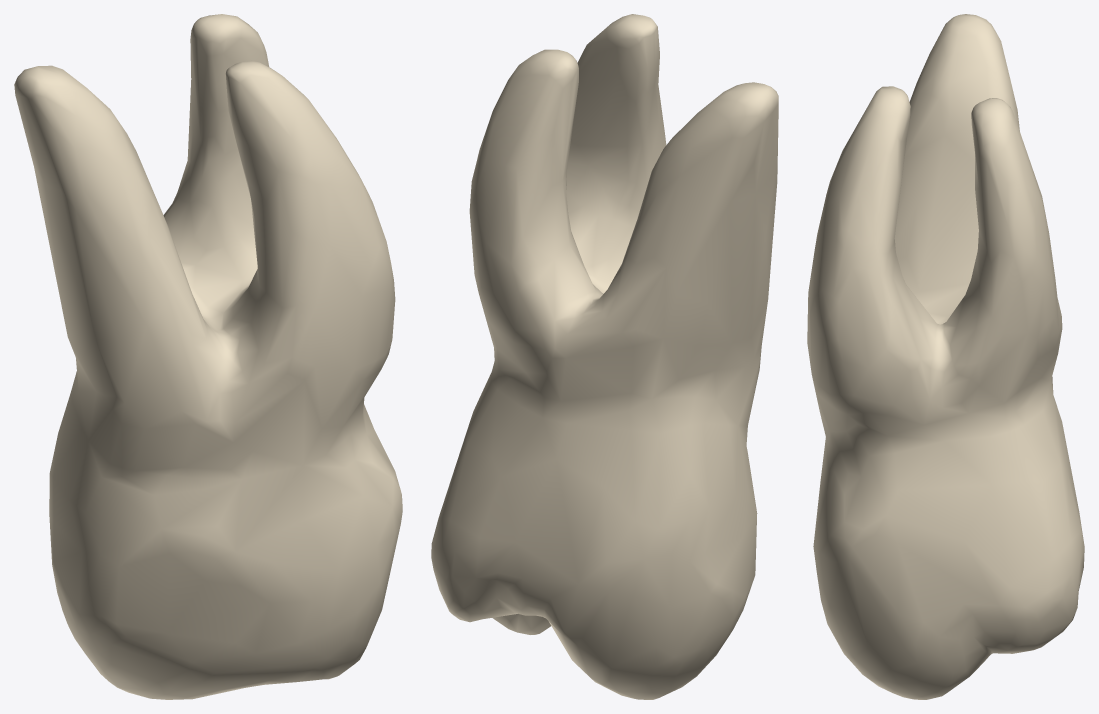
Rendered from upper-second-molar-tooth-l.glb.
3 renders of one model, left to right at view 1: azimuth 30°, elevation 25°; view 2: azimuth 150°, elevation 25°; view 3: azimuth 270°, elevation 25°, orthographic. The views are drawn at different scales.
Parts seen in each view (by area): view 1: Upper second molar tooth.l; view 2: Upper second molar tooth.l; view 3: Upper second molar tooth.l.
Part boxes in pixels (bbox=[...]): Upper second molar tooth.l: bbox=[14, 14, 402, 699]; Upper second molar tooth.l: bbox=[431, 14, 778, 699]; Upper second molar tooth.l: bbox=[807, 14, 1084, 699].
Size of the model in its own units: 0.0116 by 0.0221 by 0.00961.
